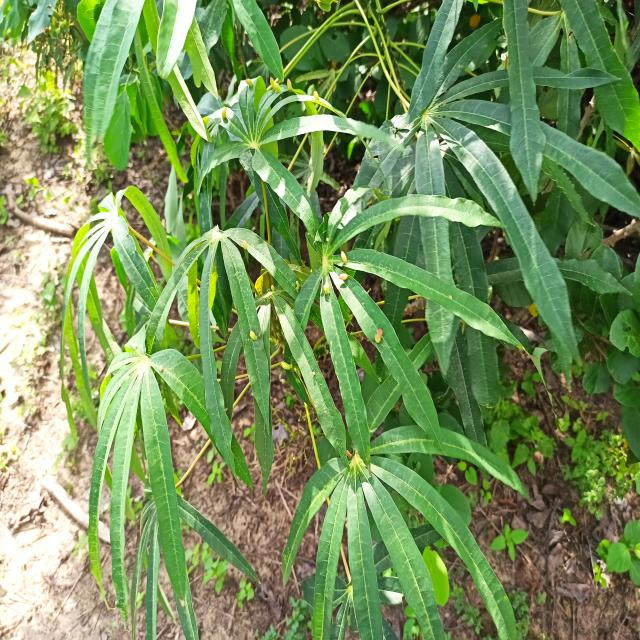Mosca: (245, 319, 264, 345), (306, 86, 325, 109), (266, 78, 285, 100), (336, 247, 357, 266), (369, 323, 386, 346), (330, 270, 353, 282), (238, 237, 255, 251), (221, 104, 233, 123), (324, 277, 334, 296), (152, 362, 166, 374)
